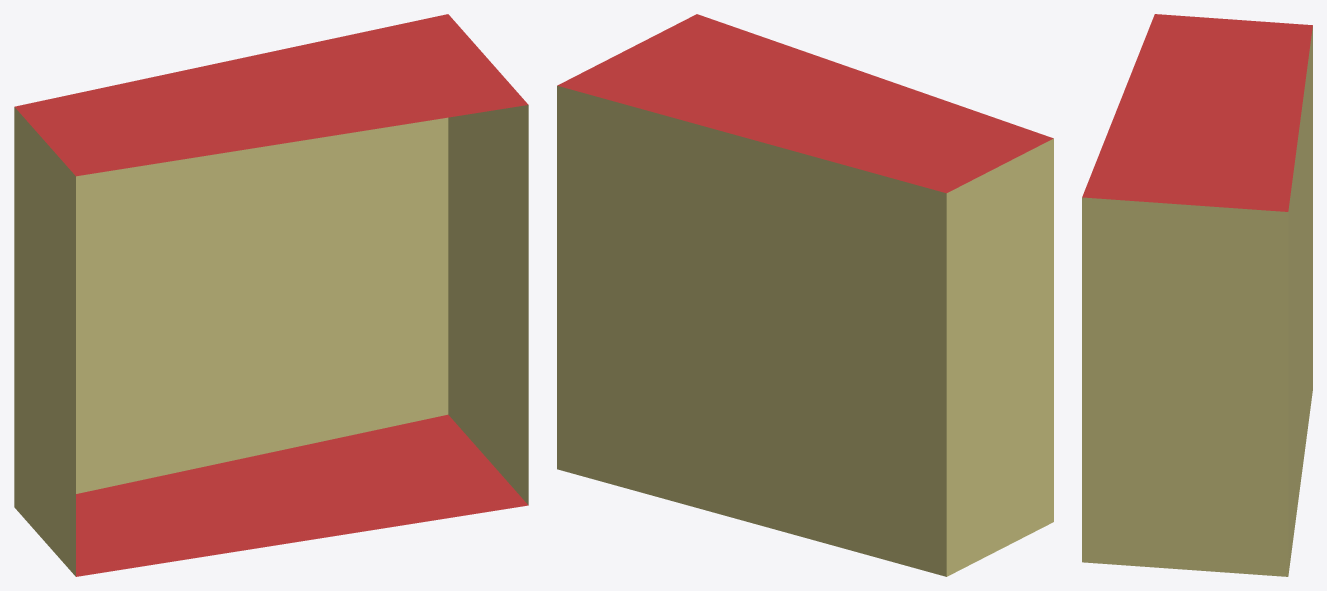
3 views of the same model, side by side, from view 1: azimuth 30°, elevation 25°; view 2: azimuth 150°, elevation 25°; view 3: azimuth 270°, elevation 25° (orthographic). The views are drawn at different scales.
Size of the model in its own units: 9.17 by 4.52 by 7.88.
